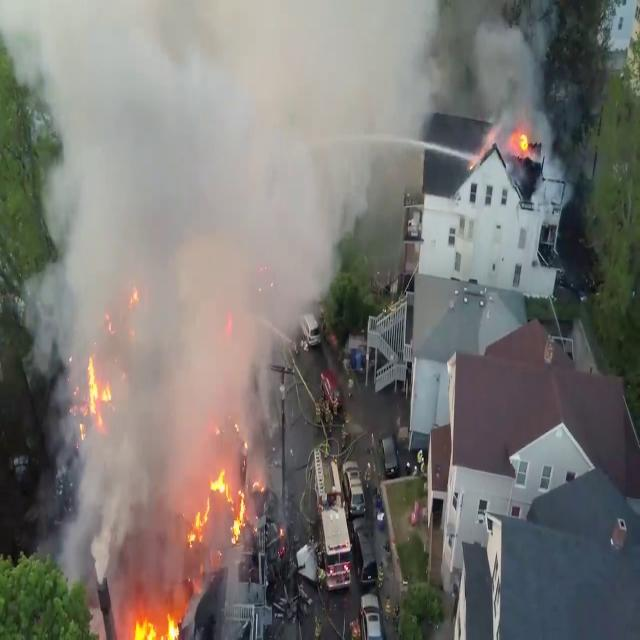Fire: (185, 464, 250, 550), (74, 352, 112, 445), (120, 602, 184, 640)
Smoke: (19, 0, 437, 488), (471, 5, 552, 175)
